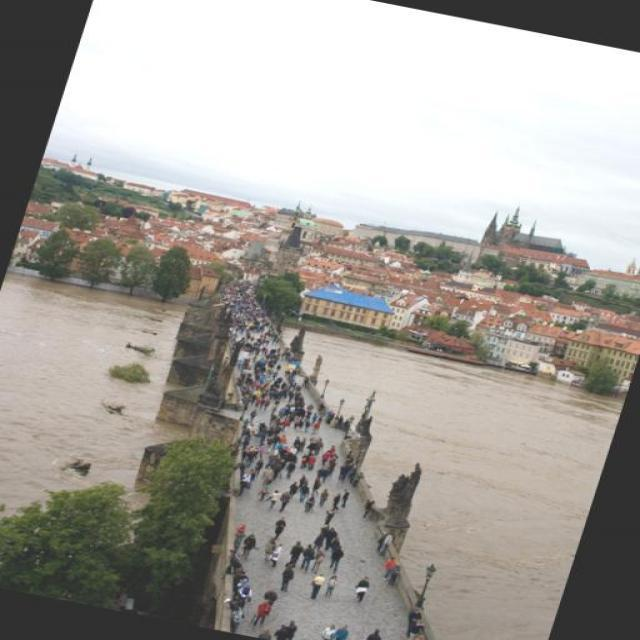flood: (0, 264, 630, 639)
